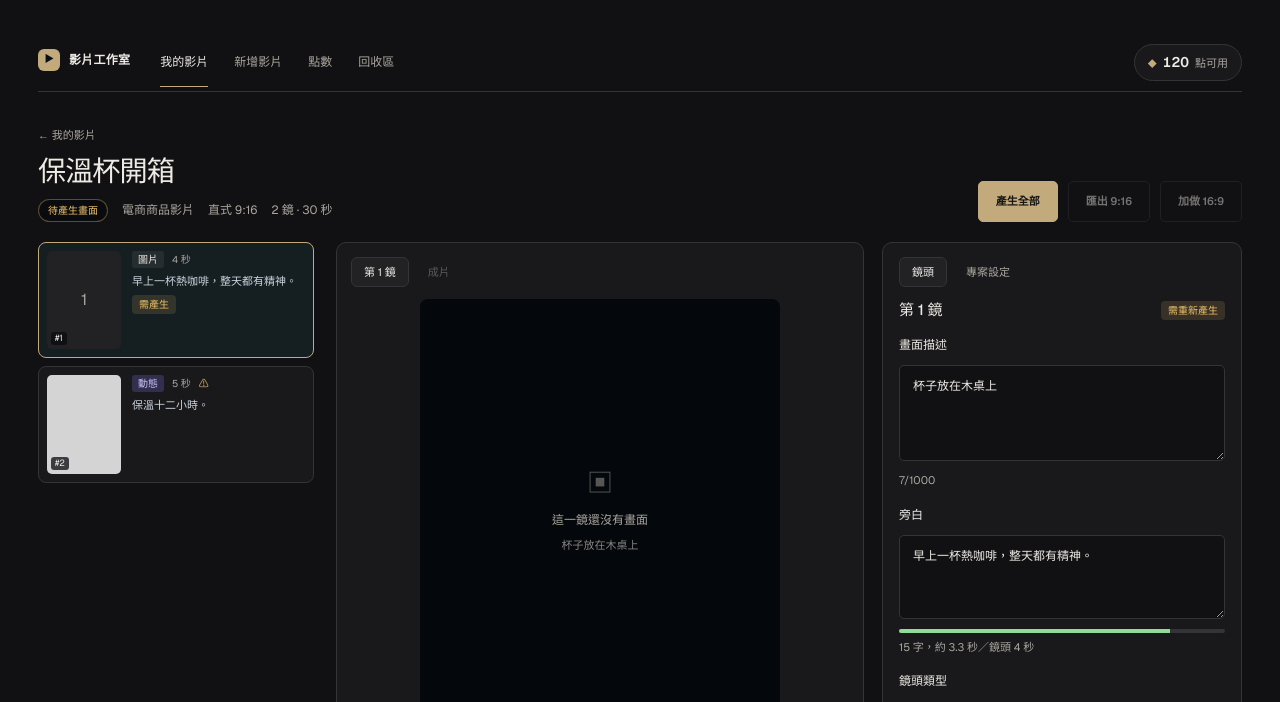
studio editor › flags narration that is too long for the shot
Replace the text in the text box labelled "旁白" with "這是一段非常非常非常非常長而且一定講不完的旁白文字內容": coordinates (1062, 577) [899,535,1225,619]
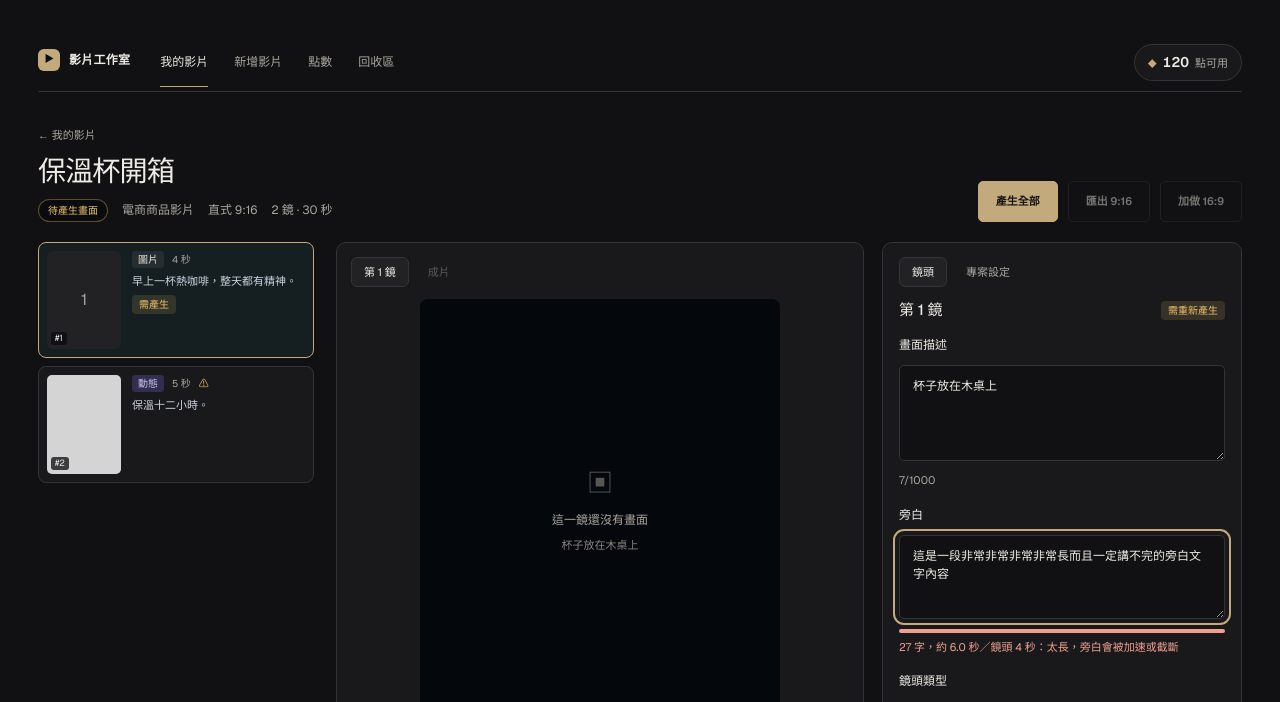
Check: the element with test id "narration-meter" shows "太長", box [1036,640,1179,654]
